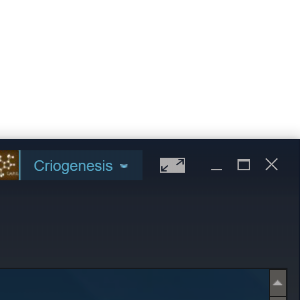close: (254, 147, 290, 179)
